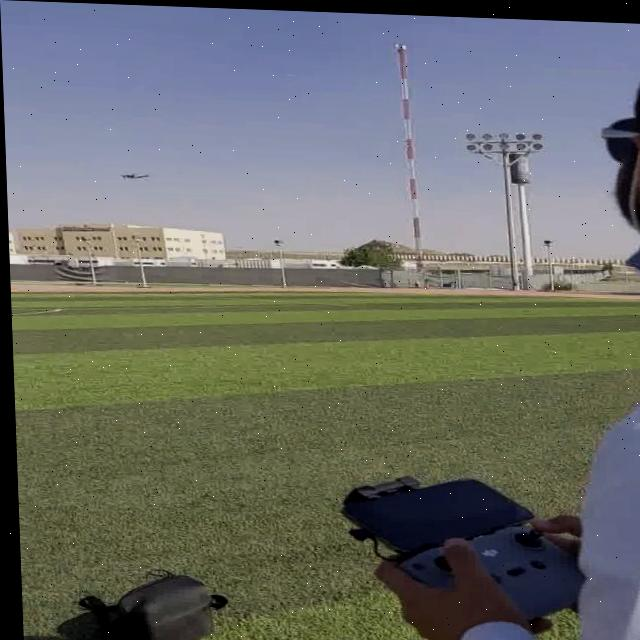drone: (106, 164, 156, 183)
